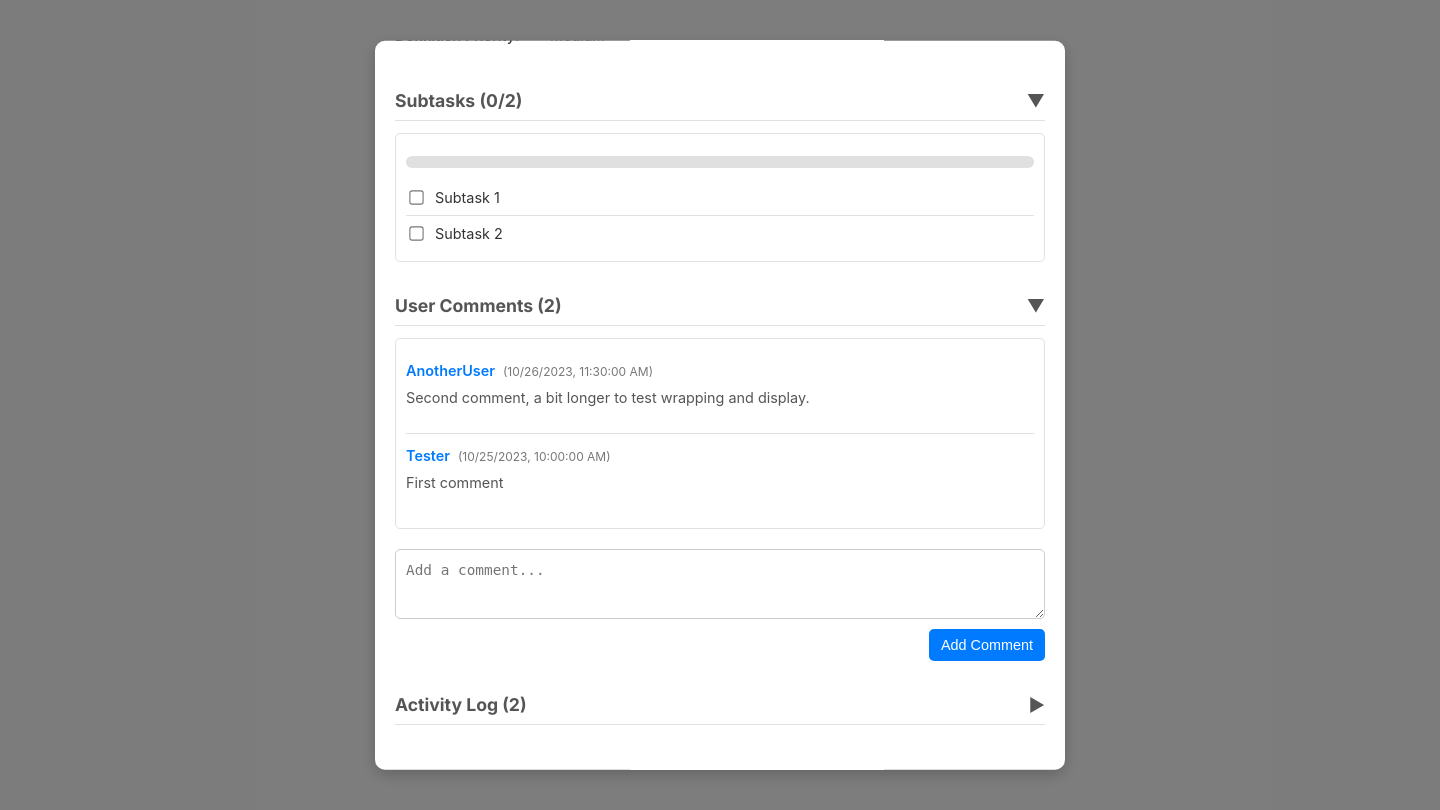
InstanceDetailModal Collapsible Sections › Activity Log section toggles and shows entries
The width and height of the screenshot is (1440, 810).
(page scrolled)
Expected: the text "Priority Changed" is not shown
Click the text "Activity Log (2)" at (461, 705), box [395,694,527,716]
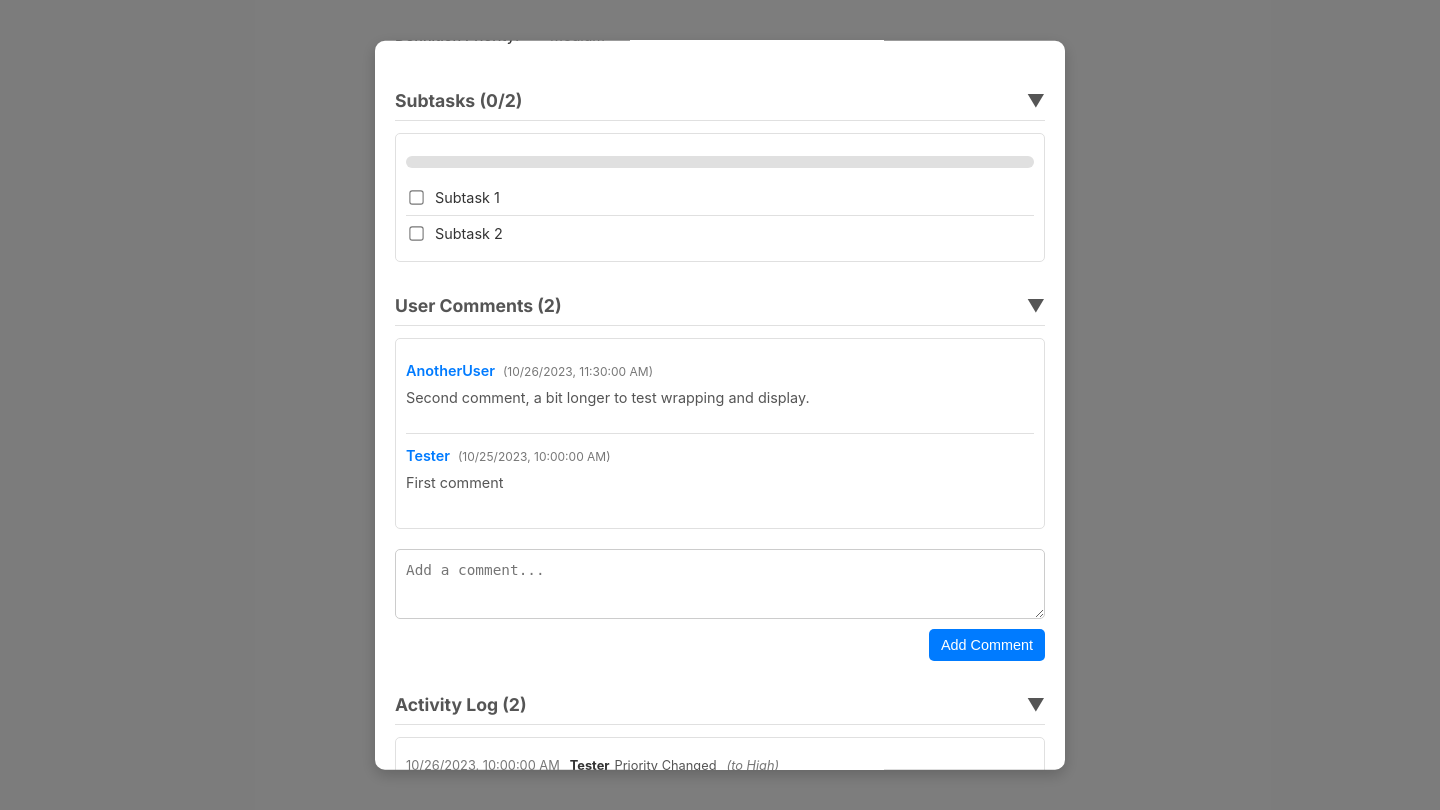
Result: the text "Priority Changed" is shown at [614,758,716,769]
Click the text "Activity Log (2)" at (461, 705), box [395,694,527,716]
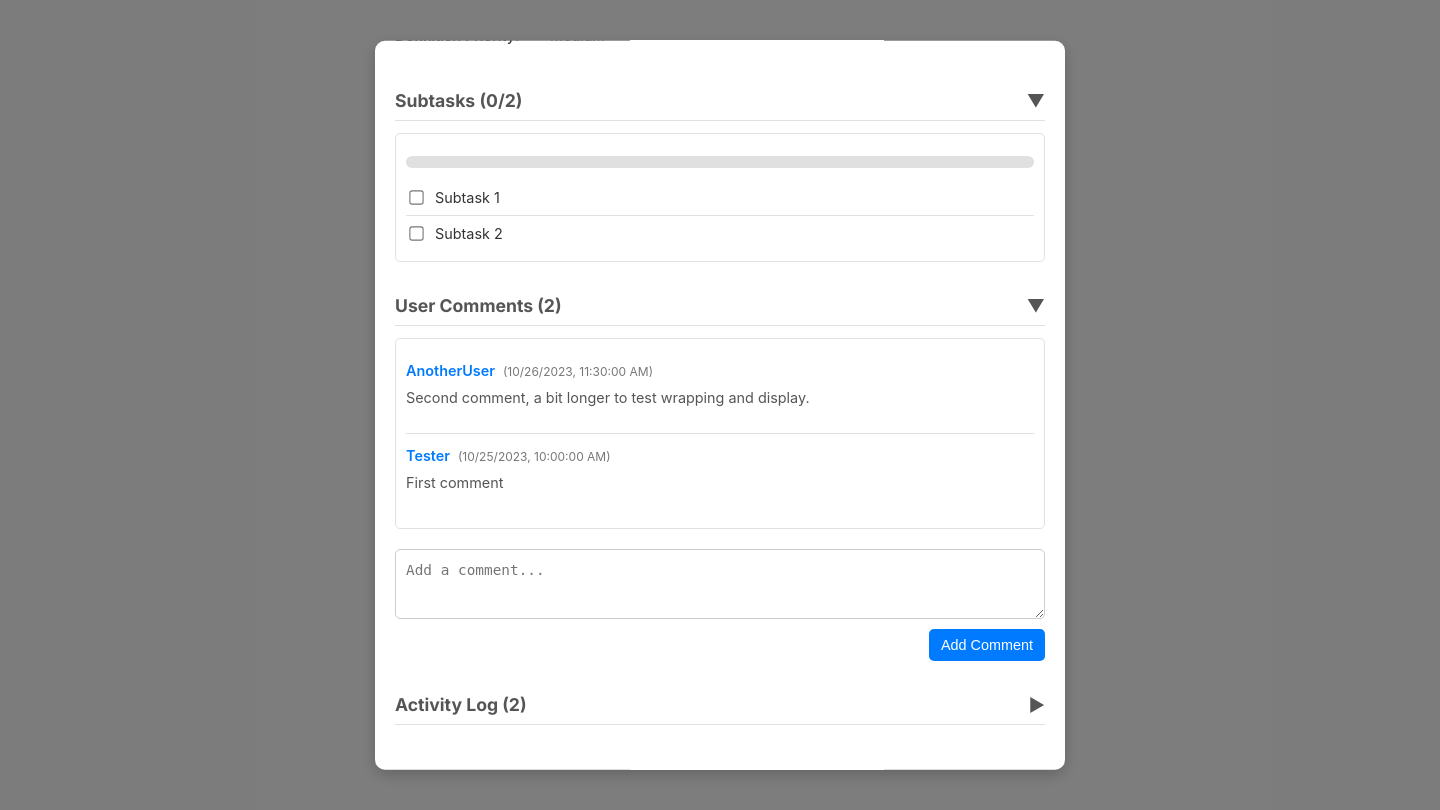
Result: the text "Priority Changed" is gone
